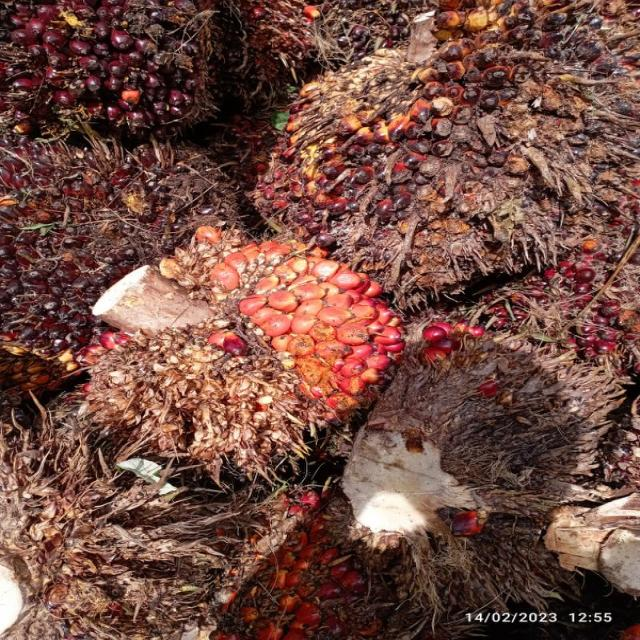fraksi 1: (233, 15, 637, 283), (0, 138, 299, 358), (0, 0, 242, 147)
fraksi 4: (50, 216, 427, 488)
